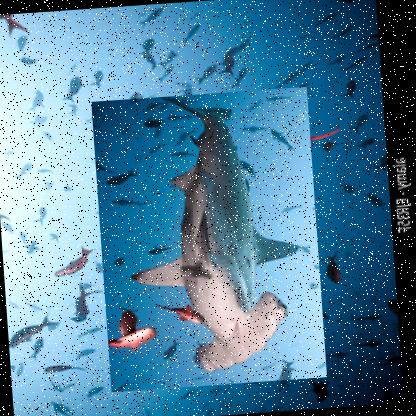hammerhead_Shark: (91, 86, 328, 392)
